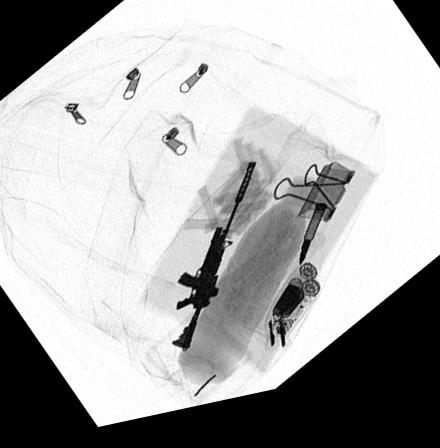Bullet: (298, 216, 327, 277)
Gun: (171, 170, 258, 356)
